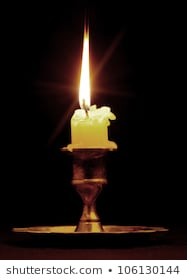Fire: (77, 17, 95, 111)
